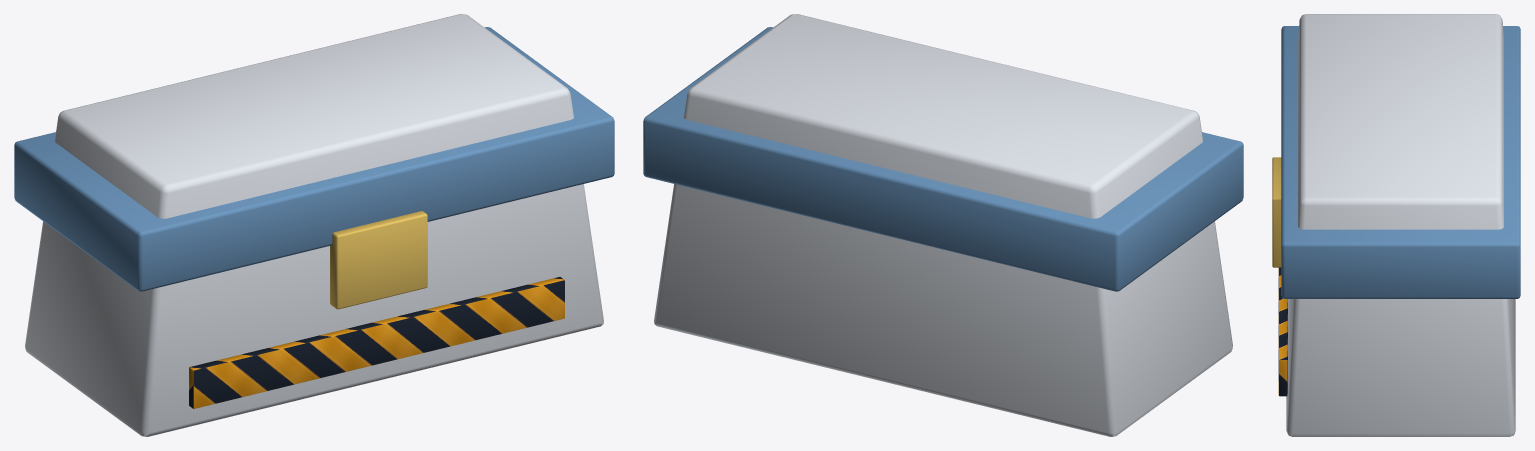
The model's file is aegis_cover_crate.glb.
3 renders of one model, left to right at view 1: azimuth 30°, elevation 25°; view 2: azimuth 150°, elevation 25°; view 3: azimuth 270°, elevation 25°, orthographic. The views are drawn at different scales.
Parts seen in each view (by area): view 1: PropBody_A2_OrbitalCeramic, PropBody_A2_AerospaceBlue, PropBody_A2_Hazard, PropBody_A2_SignalGold; view 2: PropBody_A2_OrbitalCeramic, PropBody_A2_AerospaceBlue; view 3: PropBody_A2_OrbitalCeramic, PropBody_A2_AerospaceBlue, PropBody_A2_SignalGold, PropBody_A2_Hazard.
Boxes of the visible parts, box(x1,y1,x2,y2) form: PropBody_A2_OrbitalCeramic: box(25, 14, 603, 436); PropBody_A2_AerospaceBlue: box(14, 27, 614, 291); PropBody_A2_Hazard: box(189, 277, 564, 408); PropBody_A2_SignalGold: box(330, 211, 427, 309); PropBody_A2_OrbitalCeramic: box(654, 14, 1232, 436); PropBody_A2_AerospaceBlue: box(643, 27, 1243, 291); PropBody_A2_OrbitalCeramic: box(1286, 14, 1515, 436); PropBody_A2_AerospaceBlue: box(1281, 26, 1520, 298); PropBody_A2_SignalGold: box(1272, 157, 1281, 267); PropBody_A2_Hazard: box(1278, 267, 1287, 396).
Bounding box in the file's own units: 2.82 × 1.36 × 1.35.
4 materials, 1 textured.
